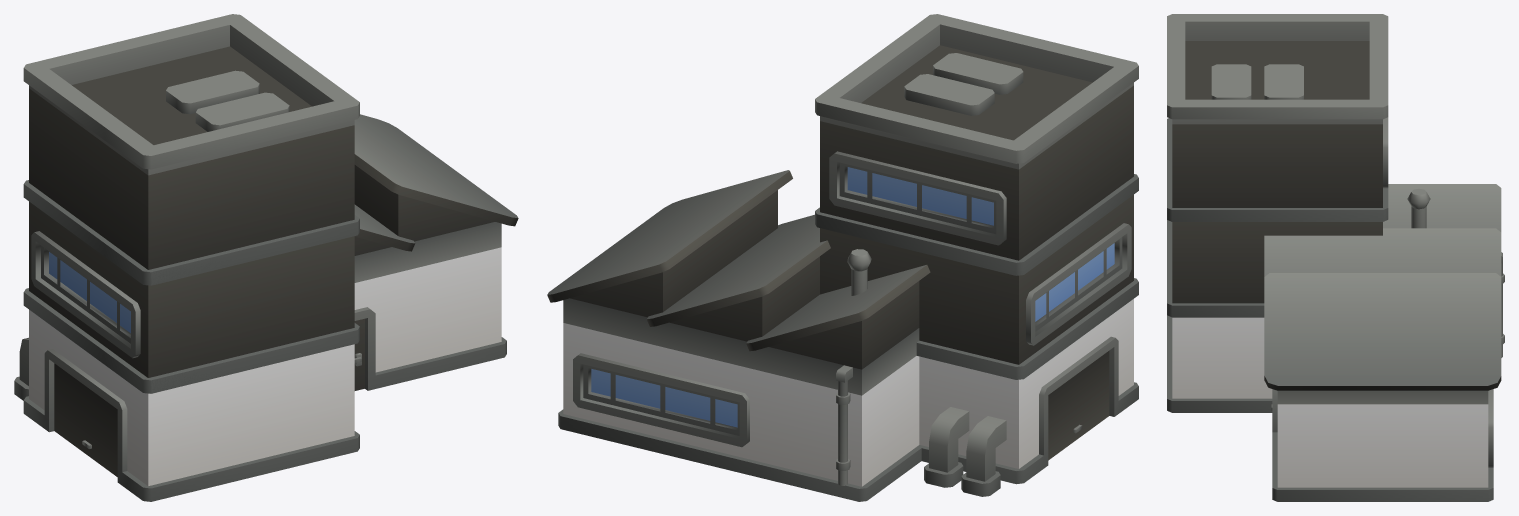
File: ind-building-g.glb
The picture shows the model from 3 angles, left to right: view 1: azimuth 30°, elevation 25°; view 2: azimuth 150°, elevation 25°; view 3: azimuth 270°, elevation 25°; orthographic projection. The views are drawn at different scales.
Visible parts, largest first — view 1: building-g; view 2: building-g; view 3: building-g.
Boxes of the visible parts, x1,y1,x2,y2 form: building-g: [14, 14, 518, 501]; building-g: [547, 14, 1138, 501]; building-g: [1167, 14, 1504, 501].
Size of the model in its own units: 1.68 by 1.28 by 1.28.
1 material, 1 textured.
